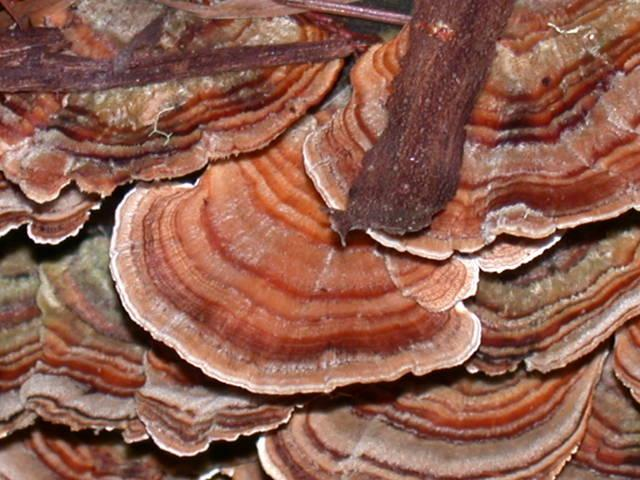Non-edible Mushroom: (0, 0, 640, 480), (322, 0, 523, 244)
